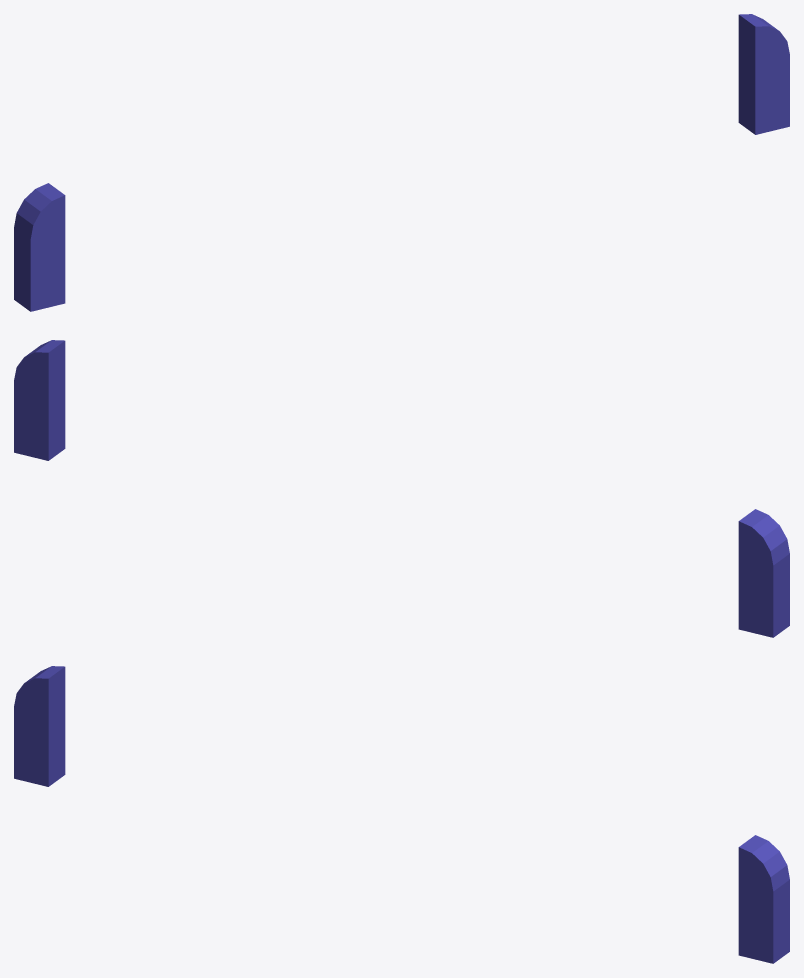
The model's file is ChainTransferEndCollisions.glb.
The picture shows the model from 3 angles, top to bottom: view 1: azimuth 30°, elevation 25°; view 2: azimuth 150°, elevation 25°; view 3: azimuth 330°, elevation 25°; orthographic projection.
Visible parts, largest first — view 1: ContainerEndR-convcolonly, ContainerEndL-convcolonly; view 2: ContainerEndR-convcolonly, ContainerEndL-convcolonly; view 3: ContainerEndL-convcolonly, ContainerEndR-convcolonly.
Boxes of the visible parts, x1=… form: ContainerEndR-convcolonly: x1=14, y1=183, x2=65, y2=311; ContainerEndL-convcolonly: x1=738, y1=14, x2=789, y2=134; ContainerEndR-convcolonly: x1=738, y1=509, x2=789, y2=637; ContainerEndL-convcolonly: x1=14, y1=340, x2=65, y2=460; ContainerEndL-convcolonly: x1=738, y1=835, x2=789, y2=963; ContainerEndR-convcolonly: x1=14, y1=666, x2=65, y2=786.
Size of the model in its own units: 2.2 by 0.3 by 0.0837.
